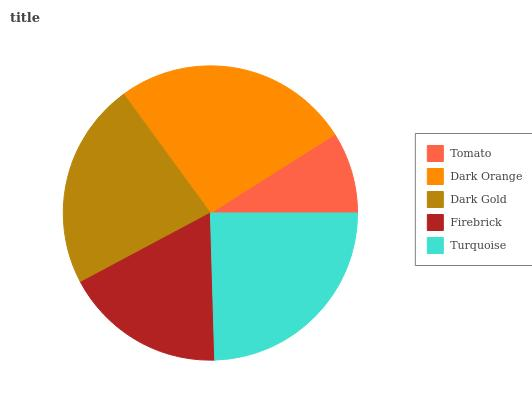legend: (414, 133, 532, 266)
sector: (123, 48, 336, 212), (62, 92, 213, 284), (209, 212, 359, 363), (79, 213, 218, 363), (209, 133, 358, 213)
